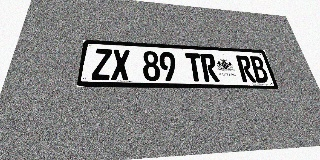8: (143, 51, 160, 81)
9: (159, 51, 177, 81)
B: (249, 56, 270, 83)
R: (200, 53, 220, 82), (235, 55, 256, 82)
T: (185, 53, 204, 82)
X: (111, 49, 130, 80)
Z: (91, 48, 112, 80)
